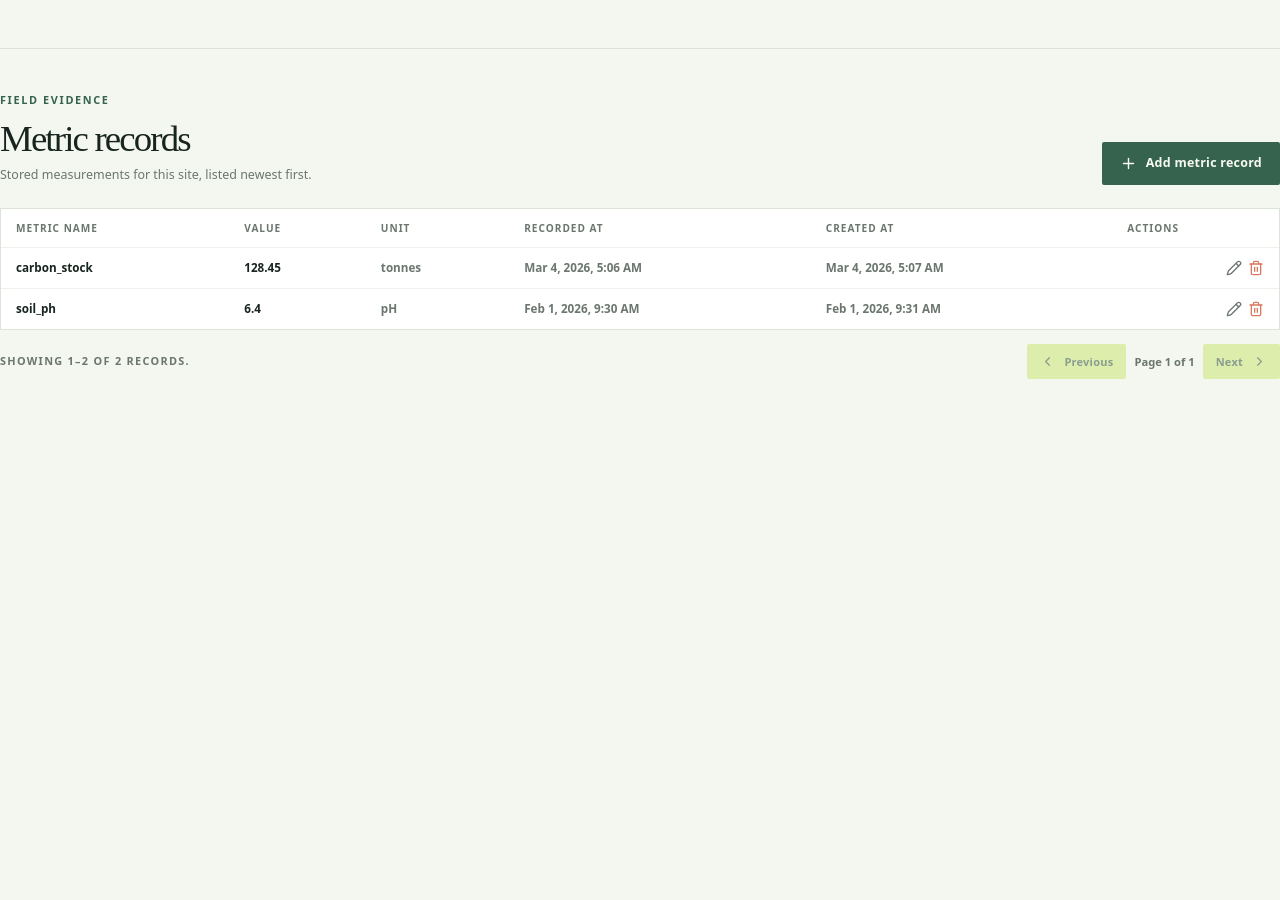
Scenario: SiteMetricRecords actions › deletes the confirmed record, refreshes the list and asks analytics to refresh
Check: the text "carbon_stock" is shown, box top-left (16, 260), bottom-right (93, 275)
Click the button named "Delete carbon_stock record": [1256, 268] box top-left (1248, 260), bottom-right (1264, 276)
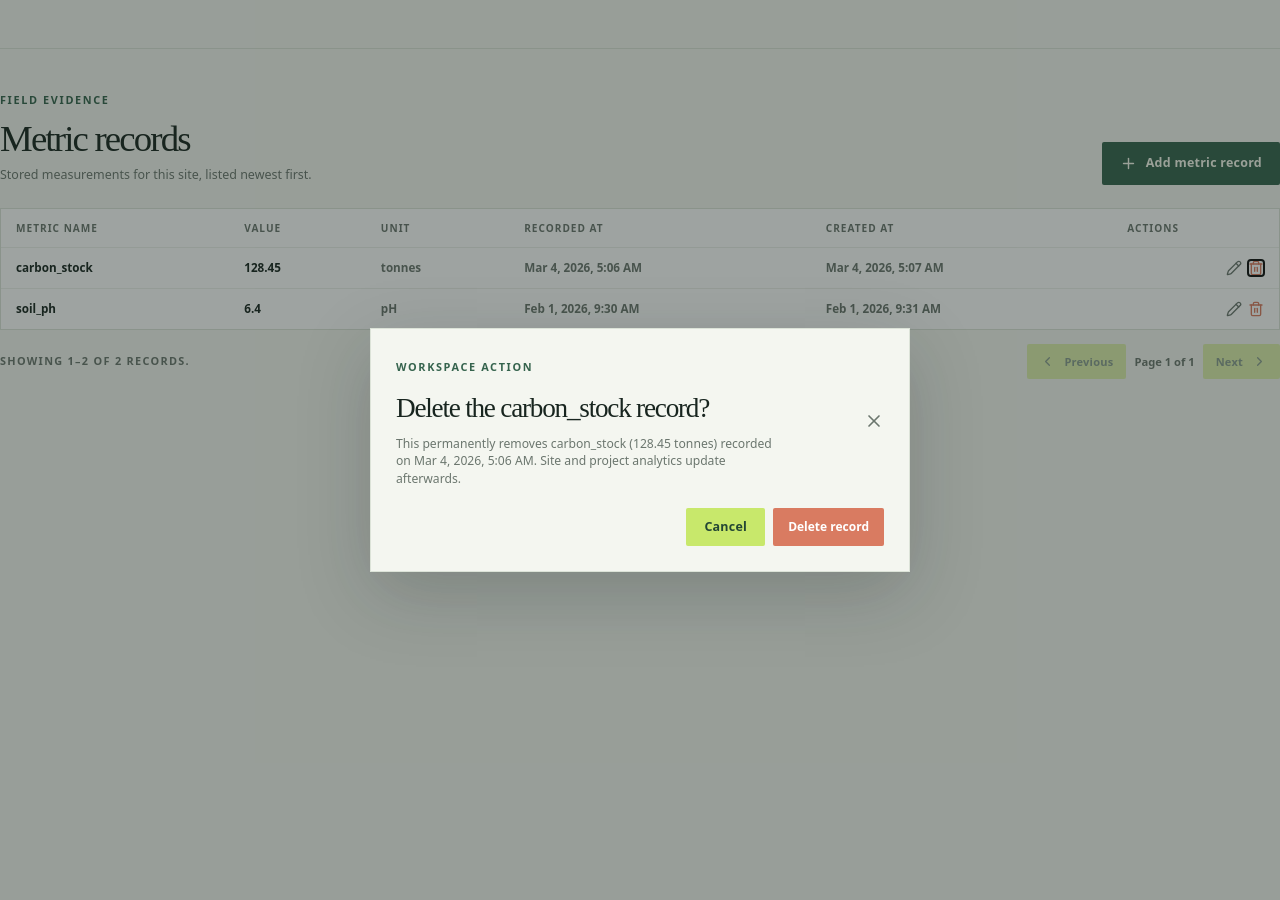
Click the button "Delete record": [829, 527] box top-left (773, 508), bottom-right (884, 546)
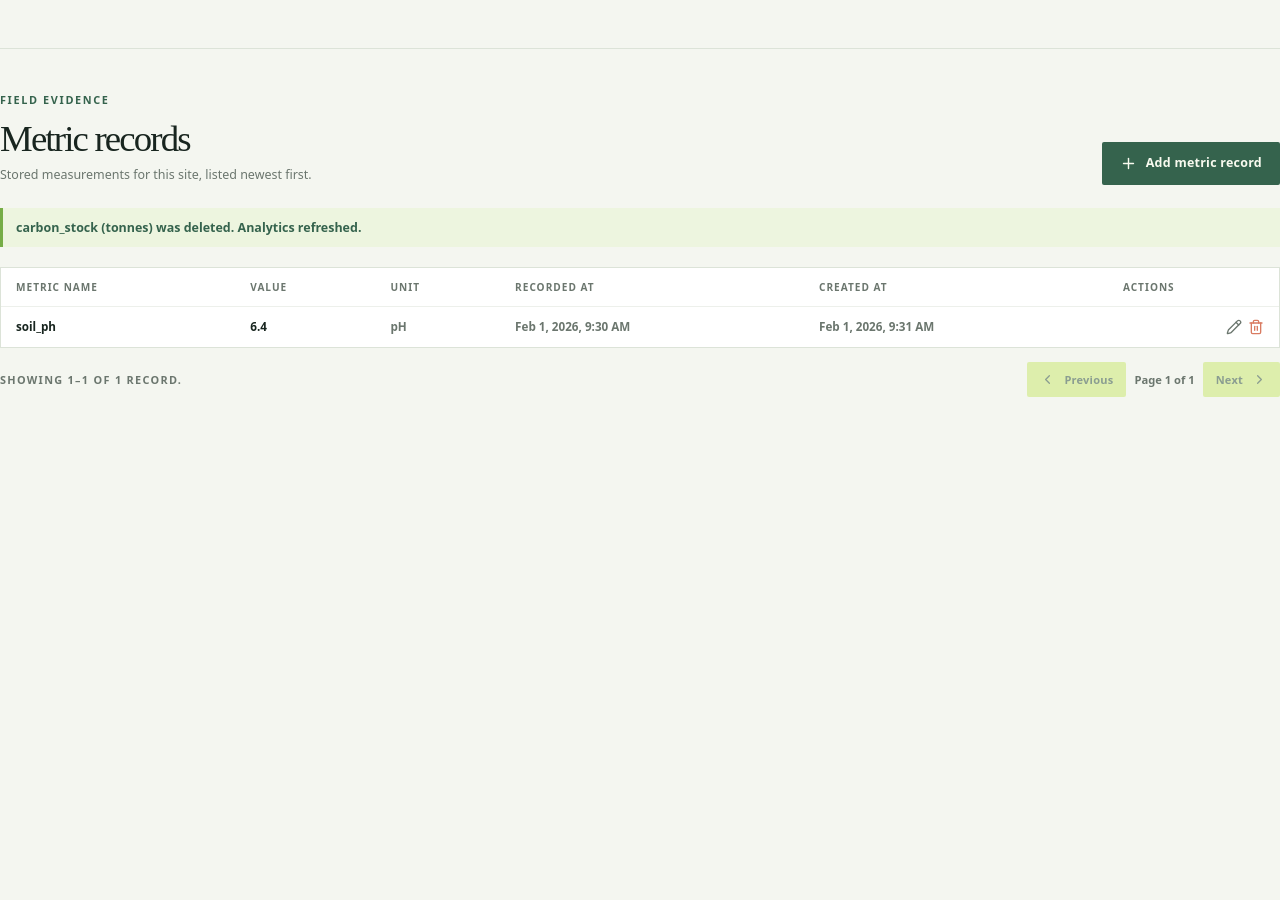
Check: the text "soil_ph" is shown, box top-left (16, 319), bottom-right (56, 334)
Check: the text "carbon_stock (tonnes) was deleted. Analytics refreshed." is shown, box top-left (0, 208), bottom-right (1279, 247)
